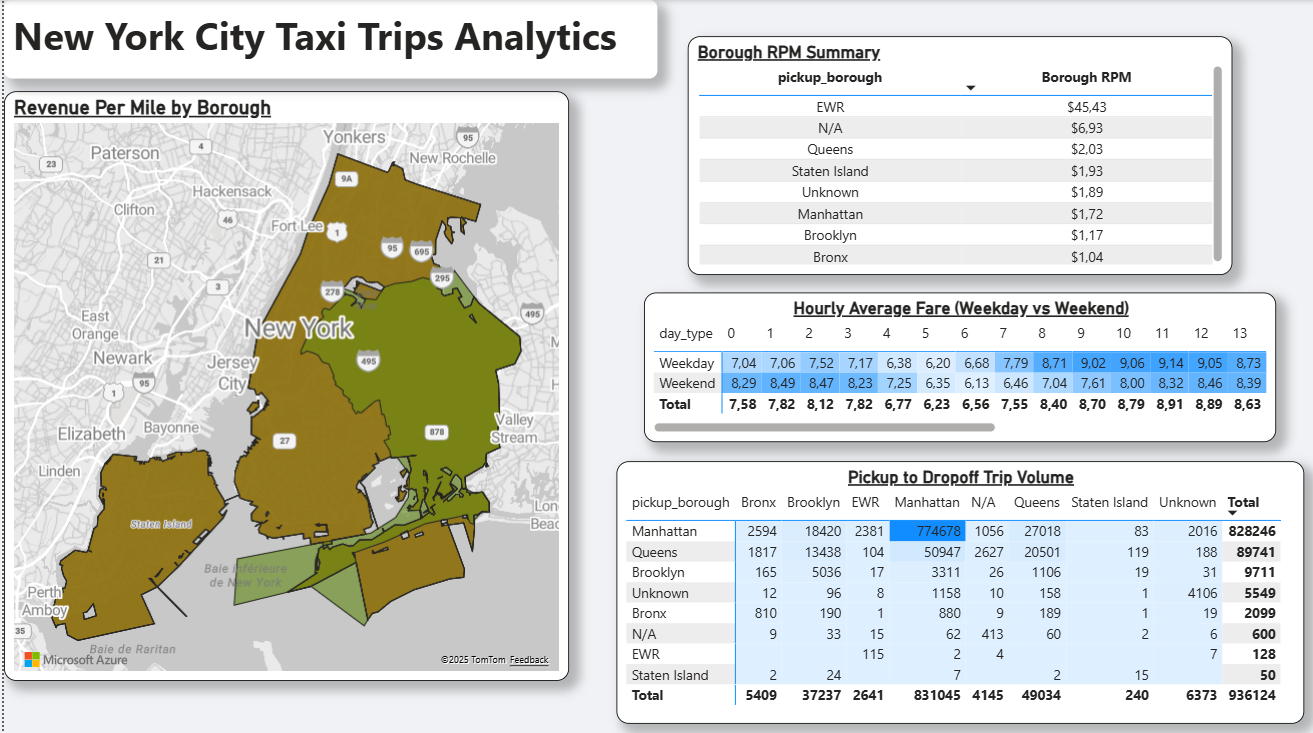

Layout of this report page (visuals, bound fields, positions):
{"tool":"powerbi","page":{"name":"Opérations & Trafic","canvas":[1280,720],"ordinal":2},"visuals":[{"type":"azureMap","title":"Revenue Per Mile by Borough","fields":{"Category":["agg_borough_analysis.pickup_borough"]},"box":[0,89.3,552.7,577.2],"z":0},{"type":"tableEx","title":"Borough RPM Summary","fields":{"Values":["agg_borough_analysis.pickup_borough","_Key Measures.Borough RPM"]},"box":[668.9,35.5,533.2,233.6],"z":1000},{"type":"pivotTable","title":"Hourly Average Fare (Weekday vs Weekend)","fields":{"Rows":["agg_hourly_patterns.day_type"],"Columns":["agg_hourly_patterns.pickup_hour"],"Values":["_Key Measures.Hourly RPM"]},"box":[626.1,286.1,618.8,146.7],"z":2000},{"type":"pivotTable","title":"Pickup to Dropoff Trip Volume","fields":{"Rows":["agg_borough_analysis.pickup_borough"],"Columns":["agg_borough_analysis.dropoff_borough"],"Values":["Sum(agg_borough_analysis.total_trips)"]},"box":[599.2,451.2,672.6,256.8],"z":3000},{"type":"textbox","box":[0,0,639.5,77],"z":4000}]}

Visuals, with their boxes in screenshot pixels (x1, y1, x2, y2), scaled from the page's 1280x720 canvas onto the 1313x733 screenshot:
"Revenue Per Mile by Borough" azureMap: l=0, t=91, r=567, b=679
"Borough RPM Summary" tableEx: l=686, t=36, r=1233, b=274
"Hourly Average Fare (Weekday vs Weekend)" pivotTable: l=642, t=291, r=1277, b=441
"Pickup to Dropoff Trip Volume" pivotTable: l=615, t=459, r=1305, b=721
textbox: l=0, t=0, r=656, b=78
